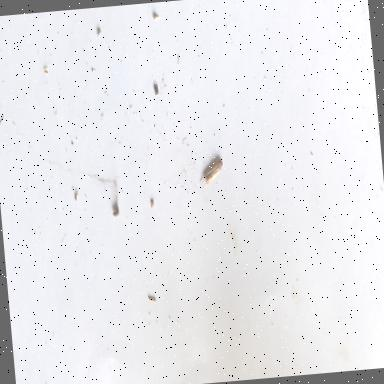pbw: (196, 153, 227, 188)
